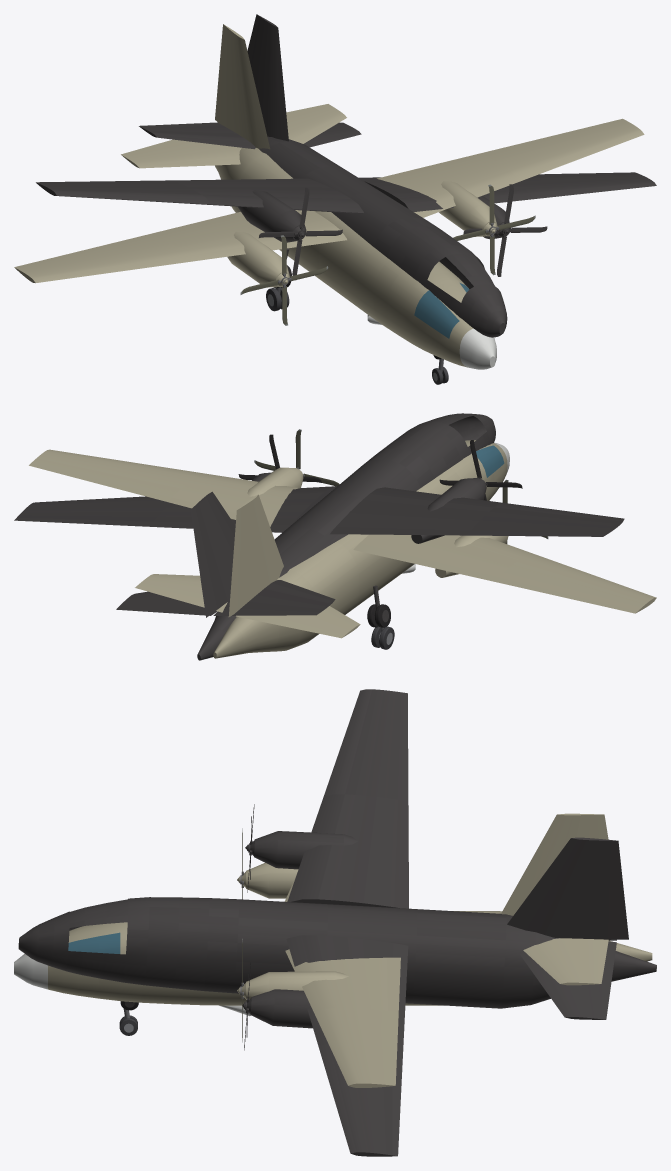
The model's file is maritimePatrol__cn_235_mpa.glb.
3 views of the same model, one above another, from view 1: azimuth 30°, elevation 25°; view 2: azimuth 150°, elevation 25°; view 3: azimuth 270°, elevation 25° (orthographic). The views are drawn at different scales.
Parts seen in each view (by area): view 1: Fuselage_Mesh, Wreck, Propeller_Mesh, Propeller_1_Mesh; view 2: Wreck, Fuselage_Mesh, Propeller_1_Mesh; view 3: Wreck, Fuselage_Mesh.
Part boxes in pixels (x1,y1,x2,y2): Fuselage_Mesh: [14, 24, 644, 384]; Wreck: [36, 14, 656, 359]; Propeller_Mesh: [240, 235, 328, 325]; Propeller_1_Mesh: [453, 184, 535, 275]; Wreck: [14, 413, 624, 660]; Fuselage_Mesh: [29, 440, 656, 658]; Propeller_1_Mesh: [254, 429, 339, 486]; Wreck: [18, 689, 656, 1156]; Fuselage_Mesh: [14, 813, 652, 1087].
Size of what is drawn, in the model's own units: 26.4 by 8.12 by 21.56.
